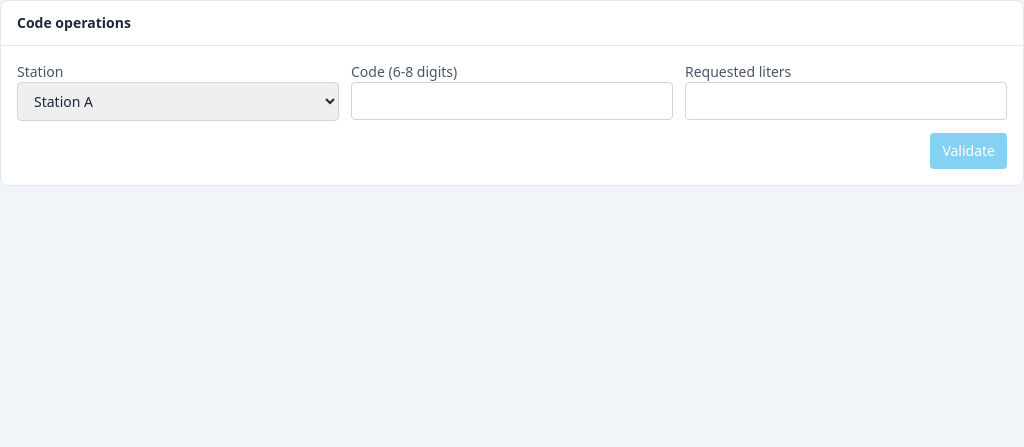
Test case: CodeOpsCard › shows employee name and remaining liters when the code is valid
Select "Station A" in the dropdown labelled "Station" at (178, 102), box [17,82,339,121]
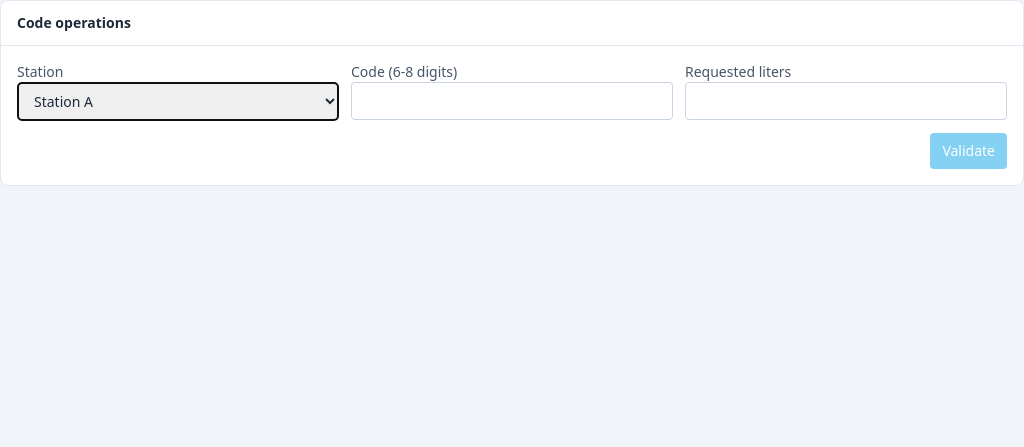
Type "123456" into the field labelled "Code (6-8 digits)" at (512, 101), box [351,82,673,120]
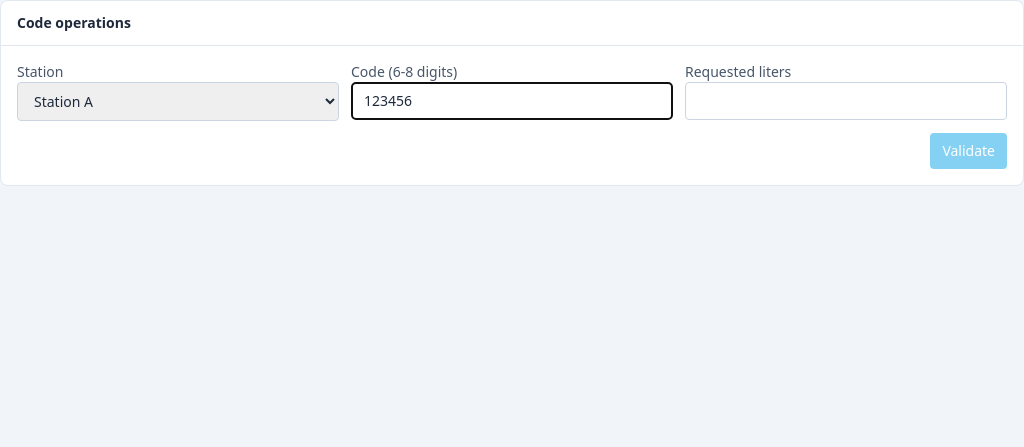
Type "50" into the number field labelled "Requested liters" at (846, 101), box [685,82,1007,120]
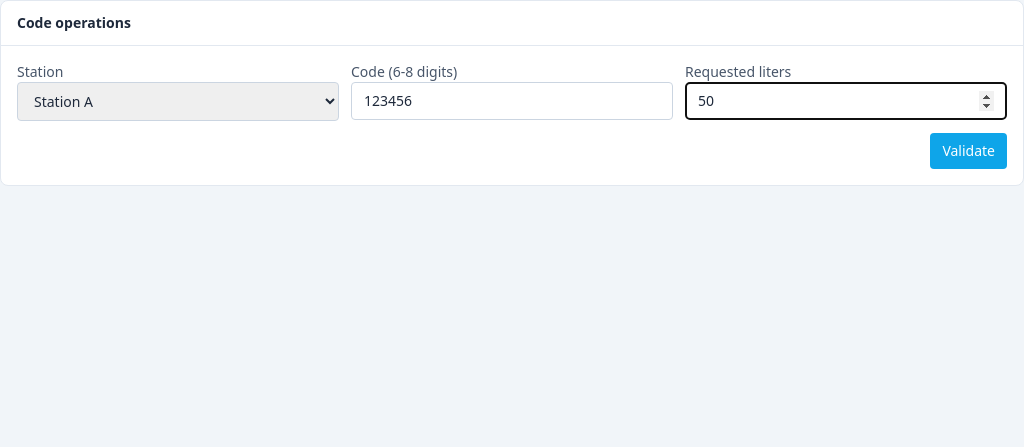
Click the button "Validate" at (969, 151), box [930,133,1007,169]
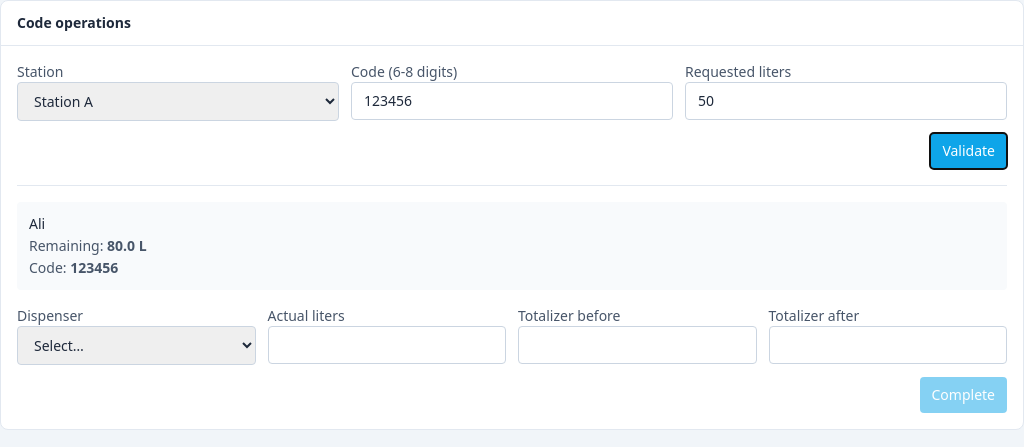
Expected: the text "Ali" is shown, [29,214,45,233]
Expected: the text "80.0 L" is shown, [107,236,147,255]
Expected: the dropdown labelled "Dispenser" is shown, [17,326,256,365]
